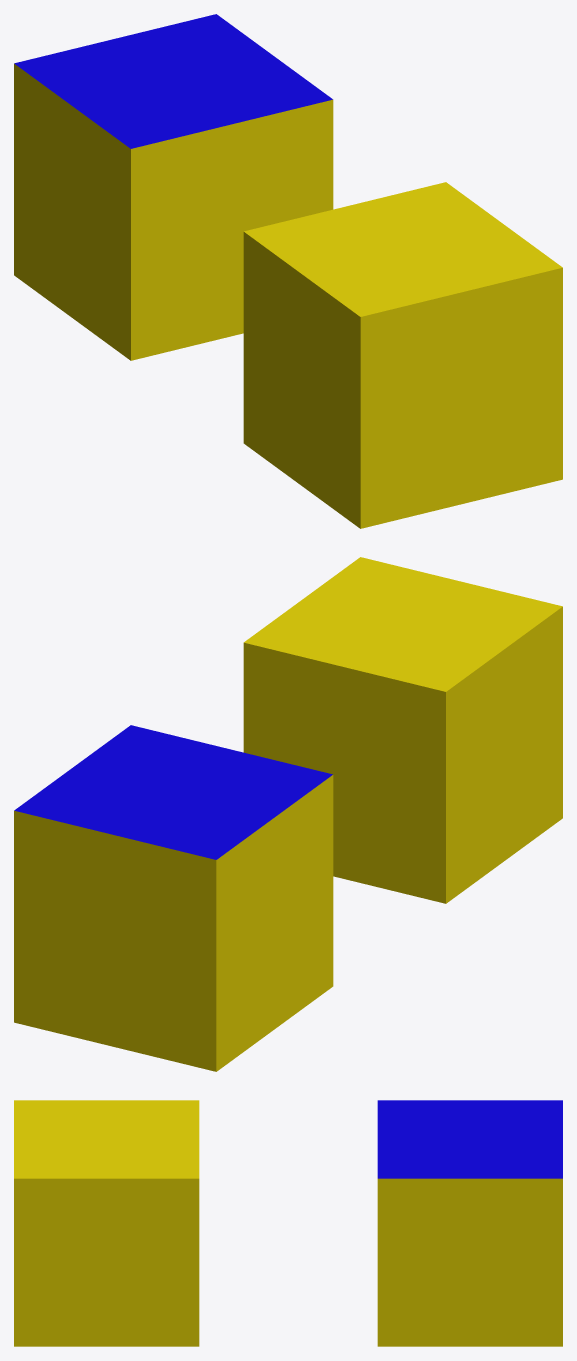
The model's file is Cubo3.fbx.
3 renders of one model, top to bottom at view 1: azimuth 30°, elevation 25°; view 2: azimuth 150°, elevation 25°; view 3: azimuth 270°, elevation 25°, orthographic. The views are drawn at different scales.
Visible parts, largest first — view 1: Cubo2.001, Cubo2; view 2: Cubo2, Cubo2.001; view 3: Cubo2, Cubo2.001.
Boxes of the visible parts, x1,y1,x2,y2 form: Cubo2.001: (243,182,562,528); Cubo2: (14,14,333,360); Cubo2: (14,725,333,1071); Cubo2.001: (243,557,562,903); Cubo2: (377,1100,562,1346); Cubo2.001: (14,1100,199,1346).
Size of the model in its own units: 200 by 200 by 593.
